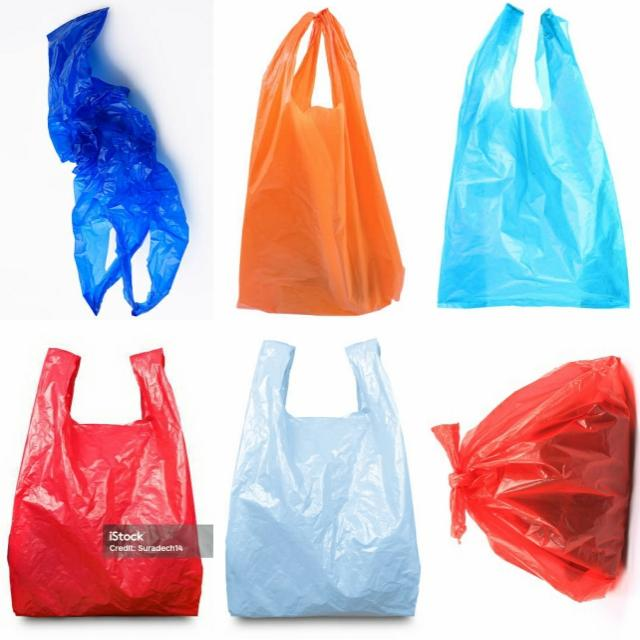Single-layer Plastic: (439, 5, 629, 308), (226, 340, 420, 618), (8, 349, 201, 616), (238, 9, 404, 314), (432, 356, 636, 601), (48, 9, 189, 315)
